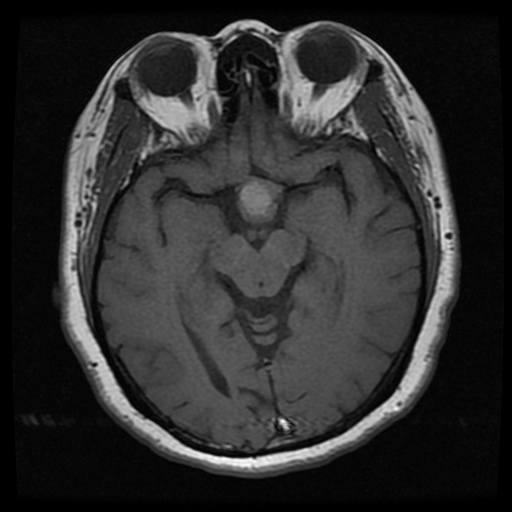pituitary: (235, 177, 284, 221)
